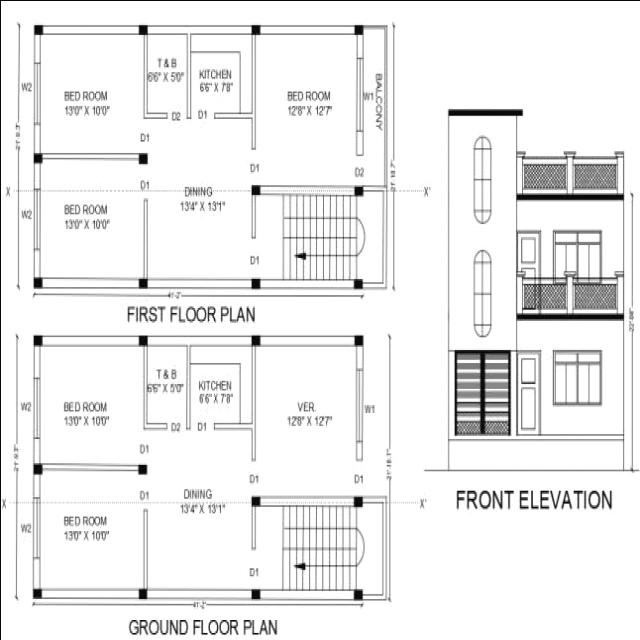column: (30, 460, 44, 476), (248, 182, 262, 197), (350, 494, 364, 509), (31, 149, 43, 165), (136, 584, 148, 600), (136, 149, 148, 165), (352, 182, 364, 198), (250, 332, 262, 348), (249, 586, 261, 602), (352, 332, 364, 348), (352, 276, 364, 292), (32, 332, 44, 347), (30, 585, 42, 600), (137, 332, 149, 347), (32, 22, 44, 36), (136, 462, 148, 476), (136, 275, 148, 289), (136, 22, 148, 36), (352, 22, 364, 36), (352, 586, 364, 600), (32, 274, 42, 290), (250, 492, 260, 508), (250, 21, 260, 36), (249, 276, 261, 288)
